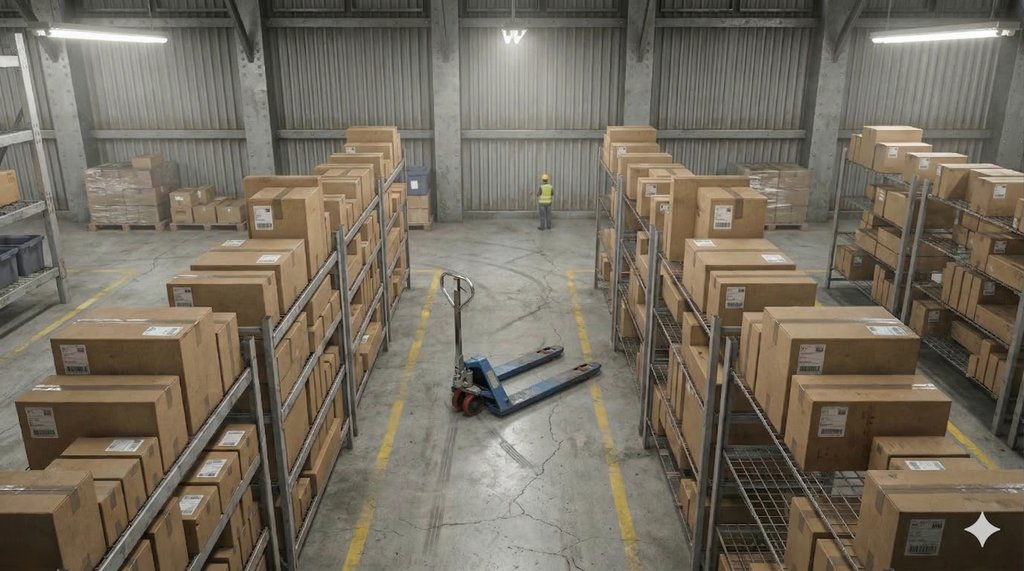obstacle: (393, 236, 631, 465)
pallet: (159, 212, 234, 244), (88, 218, 191, 241)
person: (523, 162, 574, 241)
safety_vest: (534, 184, 557, 209)
